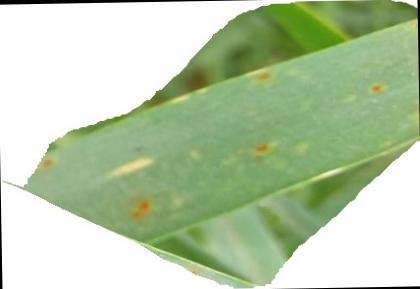Wheat: (109, 196, 177, 230), (236, 135, 289, 164)
